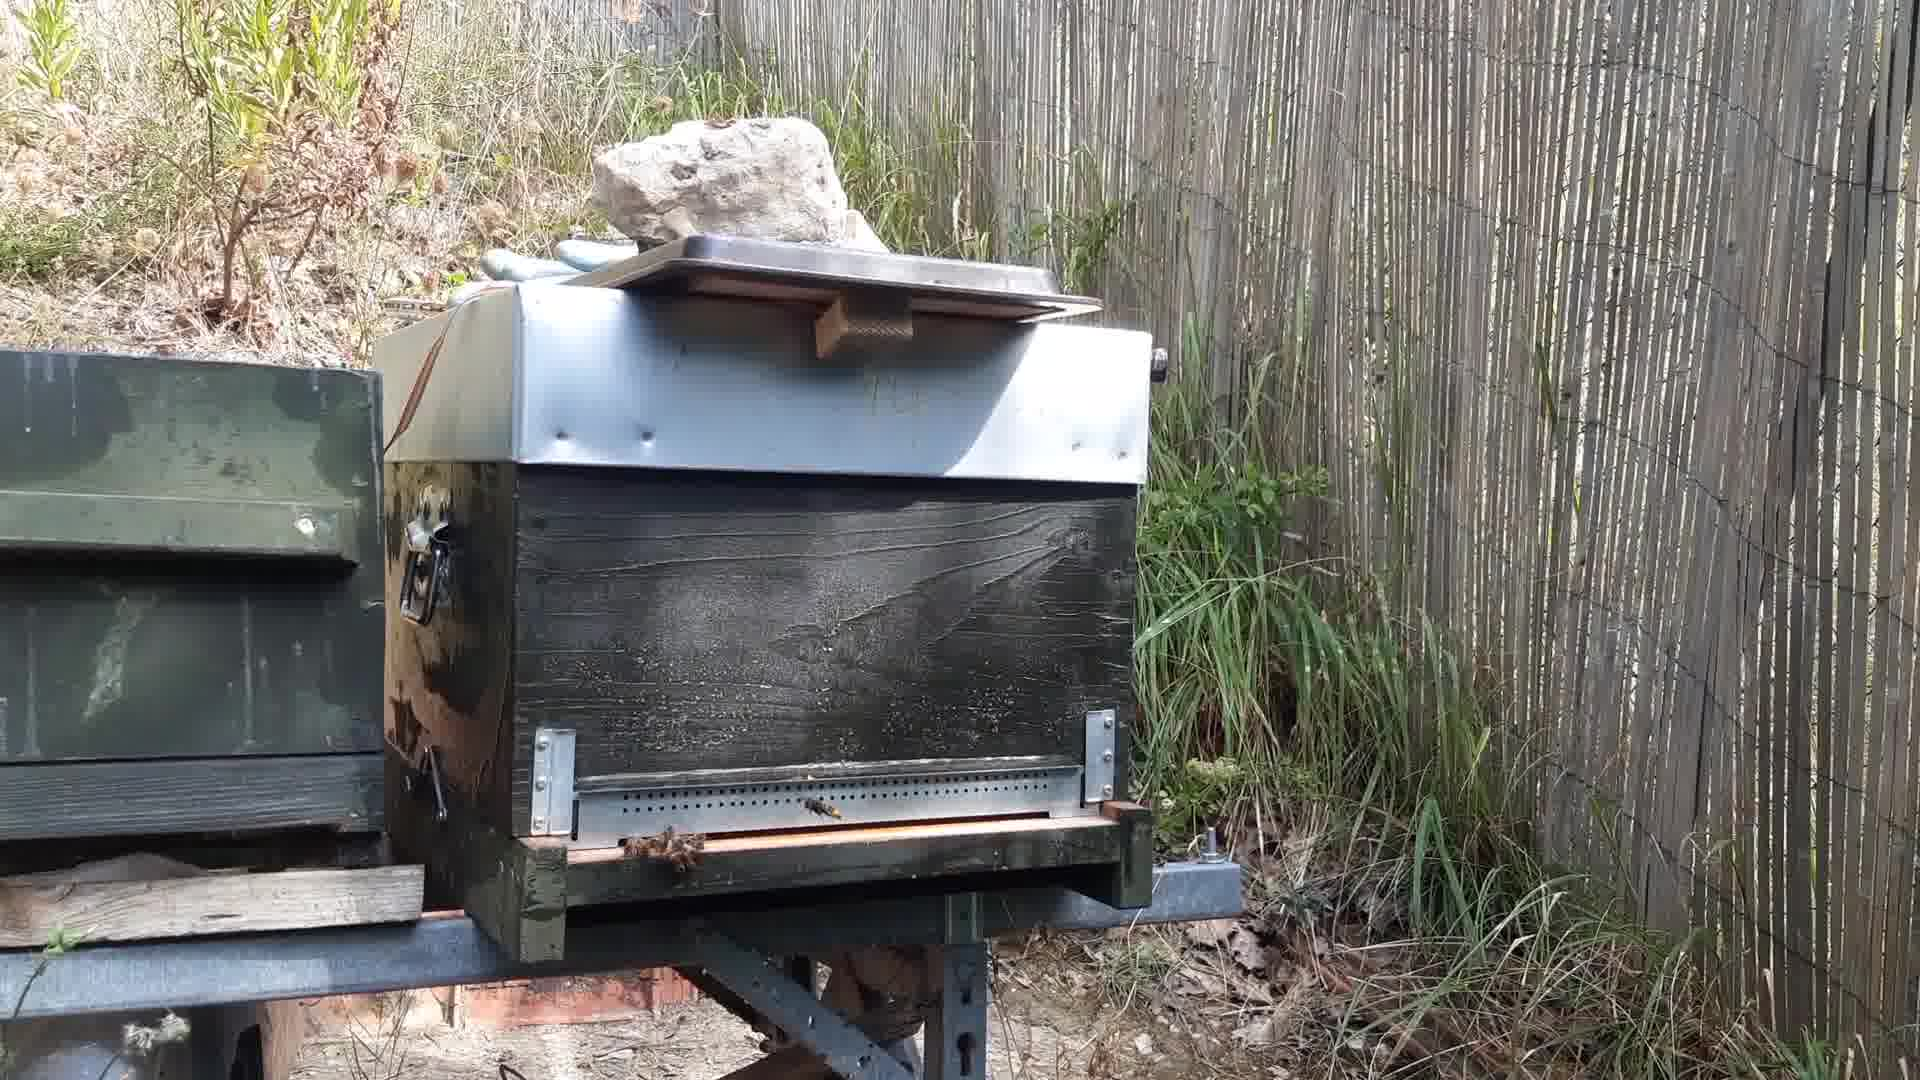bee: (620, 818, 713, 878)
hornet: (800, 793, 853, 829)
